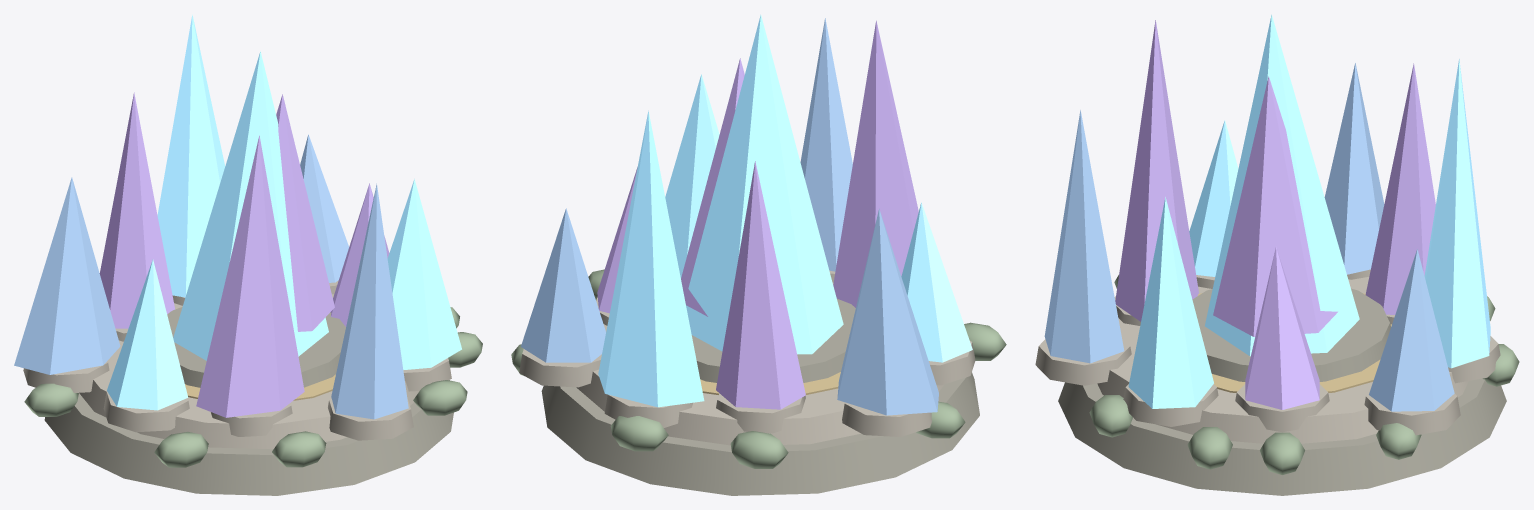
File: crystals.glb
The picture shows the model from 3 angles, left to right: view 1: azimuth 30°, elevation 25°; view 2: azimuth 150°, elevation 25°; view 3: azimuth 270°, elevation 25°; orthographic projection. The views are drawn at different scales.
Visible parts, largest first — view 1: VioletCrystalShrine-crystal, VioletCrystalShrine-lavender, VioletCrystalShrine-crystalDark, VioletCrystalShrine-stoneDark, VioletCrystalShrine-stone, VioletCrystalShrine-moss, VioletCrystalShrine-gold; view 2: VioletCrystalShrine-crystal, VioletCrystalShrine-lavender, VioletCrystalShrine-crystalDark, VioletCrystalShrine-stoneDark, VioletCrystalShrine-stone, VioletCrystalShrine-moss, VioletCrystalShrine-gold; view 3: VioletCrystalShrine-lavender, VioletCrystalShrine-crystal, VioletCrystalShrine-crystalDark, VioletCrystalShrine-stoneDark, VioletCrystalShrine-stone, VioletCrystalShrine-moss, VioletCrystalShrine-gold.
Part boxes in pixels (<box>): VioletCrystalShrine-crystal: <box>107,14,461,410</box>; VioletCrystalShrine-lavender: <box>99,92,389,417</box>; VioletCrystalShrine-crystalDark: <box>14,134,408,419</box>; VioletCrystalShrine-stoneDark: <box>44,307,453,495</box>; VioletCrystalShrine-stone: <box>23,280,451,449</box>; VioletCrystalShrine-moss: <box>24,307,482,467</box>; VioletCrystalShrine-gold: <box>176,307,335,400</box>; VioletCrystalShrine-crystal: <box>598,14,972,407</box>; VioletCrystalShrine-lavender: <box>597,20,918,409</box>; VioletCrystalShrine-crystalDark: <box>521,18,938,415</box>; VioletCrystalShrine-stoneDark: <box>541,298,979,495</box>; VioletCrystalShrine-stone: <box>519,270,975,445</box>; VioletCrystalShrine-moss: <box>511,269,1006,468</box>; VioletCrystalShrine-gold: <box>700,372,840,394</box>; VioletCrystalShrine-lavender: <box>1115,20,1435,409</box>; VioletCrystalShrine-crystal: <box>1128,14,1490,408</box>; VioletCrystalShrine-crystalDark: <box>1044,63,1454,411</box>; VioletCrystalShrine-stoneDark: <box>1058,288,1506,495</box>; VioletCrystalShrine-stone: <box>1035,269,1500,443</box>; VioletCrystalShrine-moss: <box>1089,275,1519,474</box>; VioletCrystalShrine-gold: <box>1198,293,1391,392</box>.
Bounding box in the file's own units: 1.11 × 0.92 × 1.04.
